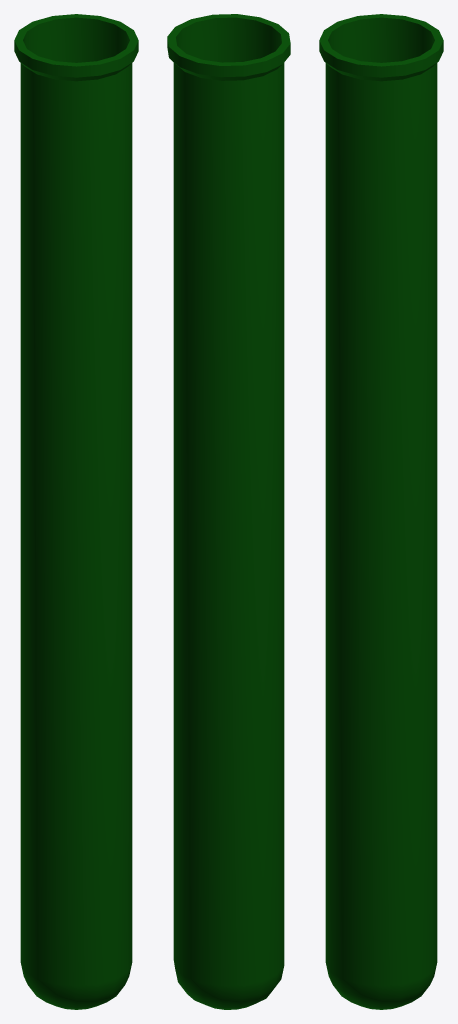
Rendered from TestTube.fbx.
3 views of the same model, side by side, from view 1: azimuth 90°, elevation 25°; view 2: azimuth 150°, elevation 25°; view 3: azimuth 270°, elevation 25° (orthographic).
Parts seen in each view (by area): view 1: TestTube; view 2: TestTube; view 3: TestTube.
Boxes of the visible parts, x1,y1,x2,y2 form: TestTube: (14,14,138,1009); TestTube: (167,14,290,1009); TestTube: (319,14,443,1009).
Bounding box in the file's own units: 81.93 × 698 × 81.93.
